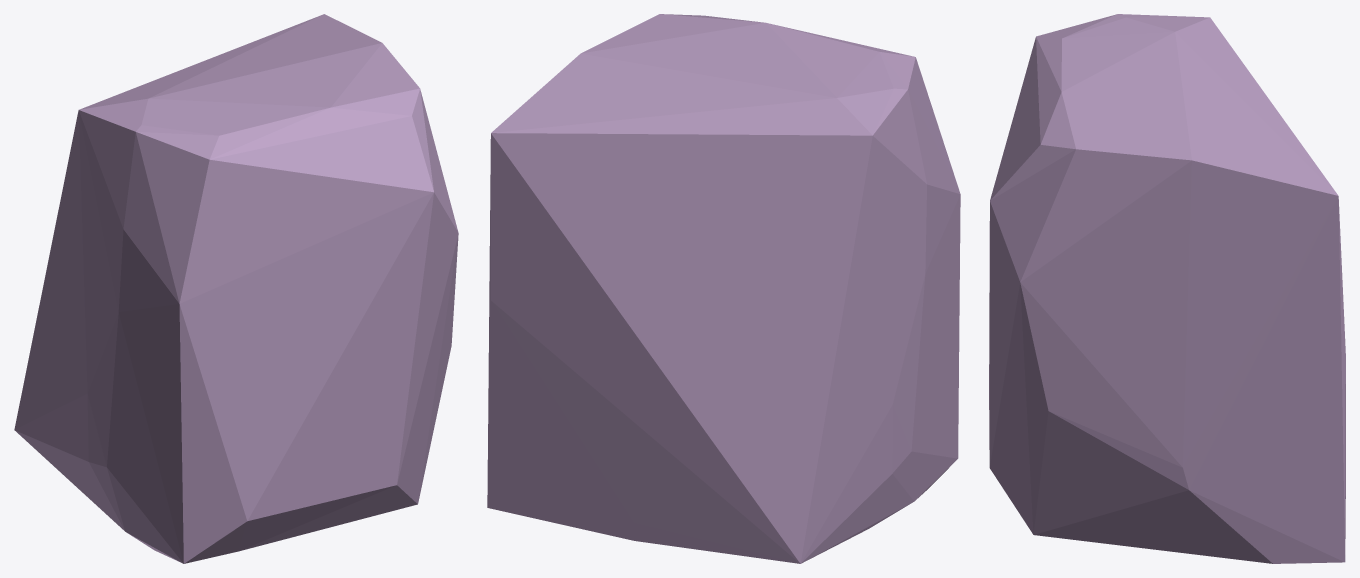
File: pallet_assembly_white_e02.glb
The picture shows the model from 3 angles, left to right: view 1: azimuth 30°, elevation 25°; view 2: azimuth 150°, elevation 25°; view 3: azimuth 270°, elevation 25°; orthographic projection. The views are drawn at different scales.
Parts seen in each view (by area): view 1: geometry_0; view 2: geometry_0; view 3: geometry_0.
Boxes of the visible parts, x1=… form: geometry_0: x1=14, y1=14, x2=458, y2=563; geometry_0: x1=487, y1=14, x2=960, y2=563; geometry_0: x1=989, y1=14, x2=1345, y2=563.
Bounding box in the file's own units: 0.3867 × 0.4774 × 0.3696.
